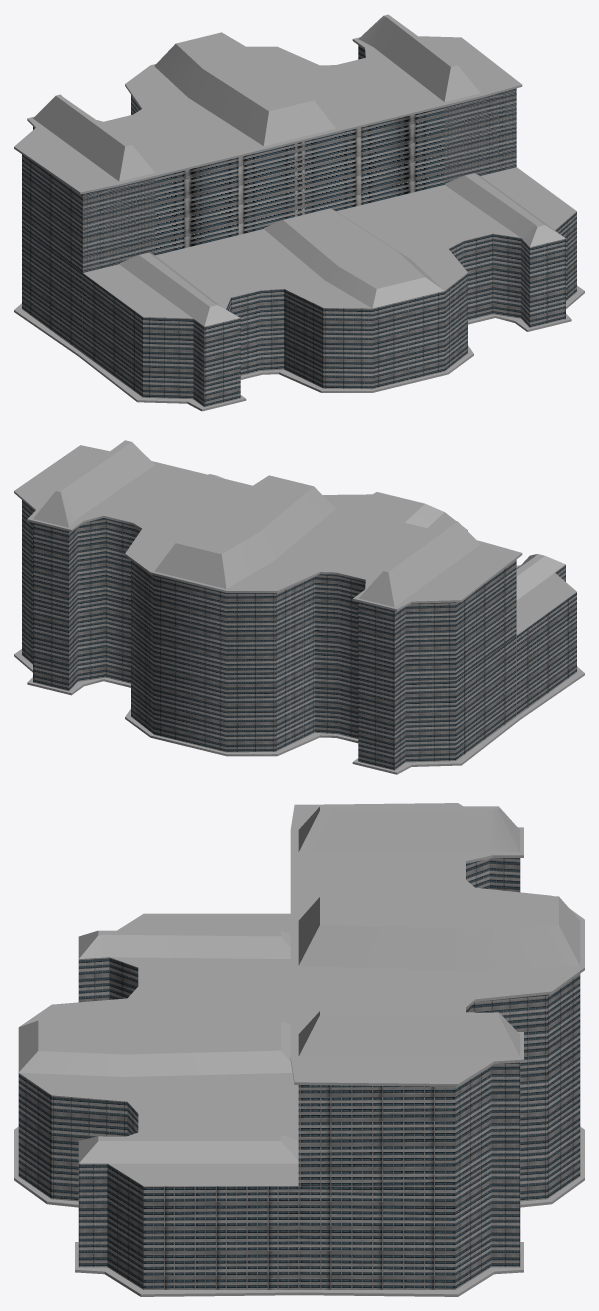
The model's file is future_bigGovBuilding.fbx.
3 renders of one model, top to bottom at view 1: azimuth 30°, elevation 25°; view 2: azimuth 150°, elevation 25°; view 3: azimuth 270°, elevation 25°, orthographic. The views are drawn at different scales.
Parts seen in each view (by area): view 1: polySurface68; view 2: polySurface68; view 3: polySurface68.
Boxes of the visible parts, x1,y1,x2,y2 form: polySurface68: (14, 14, 584, 411); polySurface68: (14, 440, 584, 774); polySurface68: (14, 803, 584, 1296).
Size of the model in its own units: 208 by 84.64 by 178.
